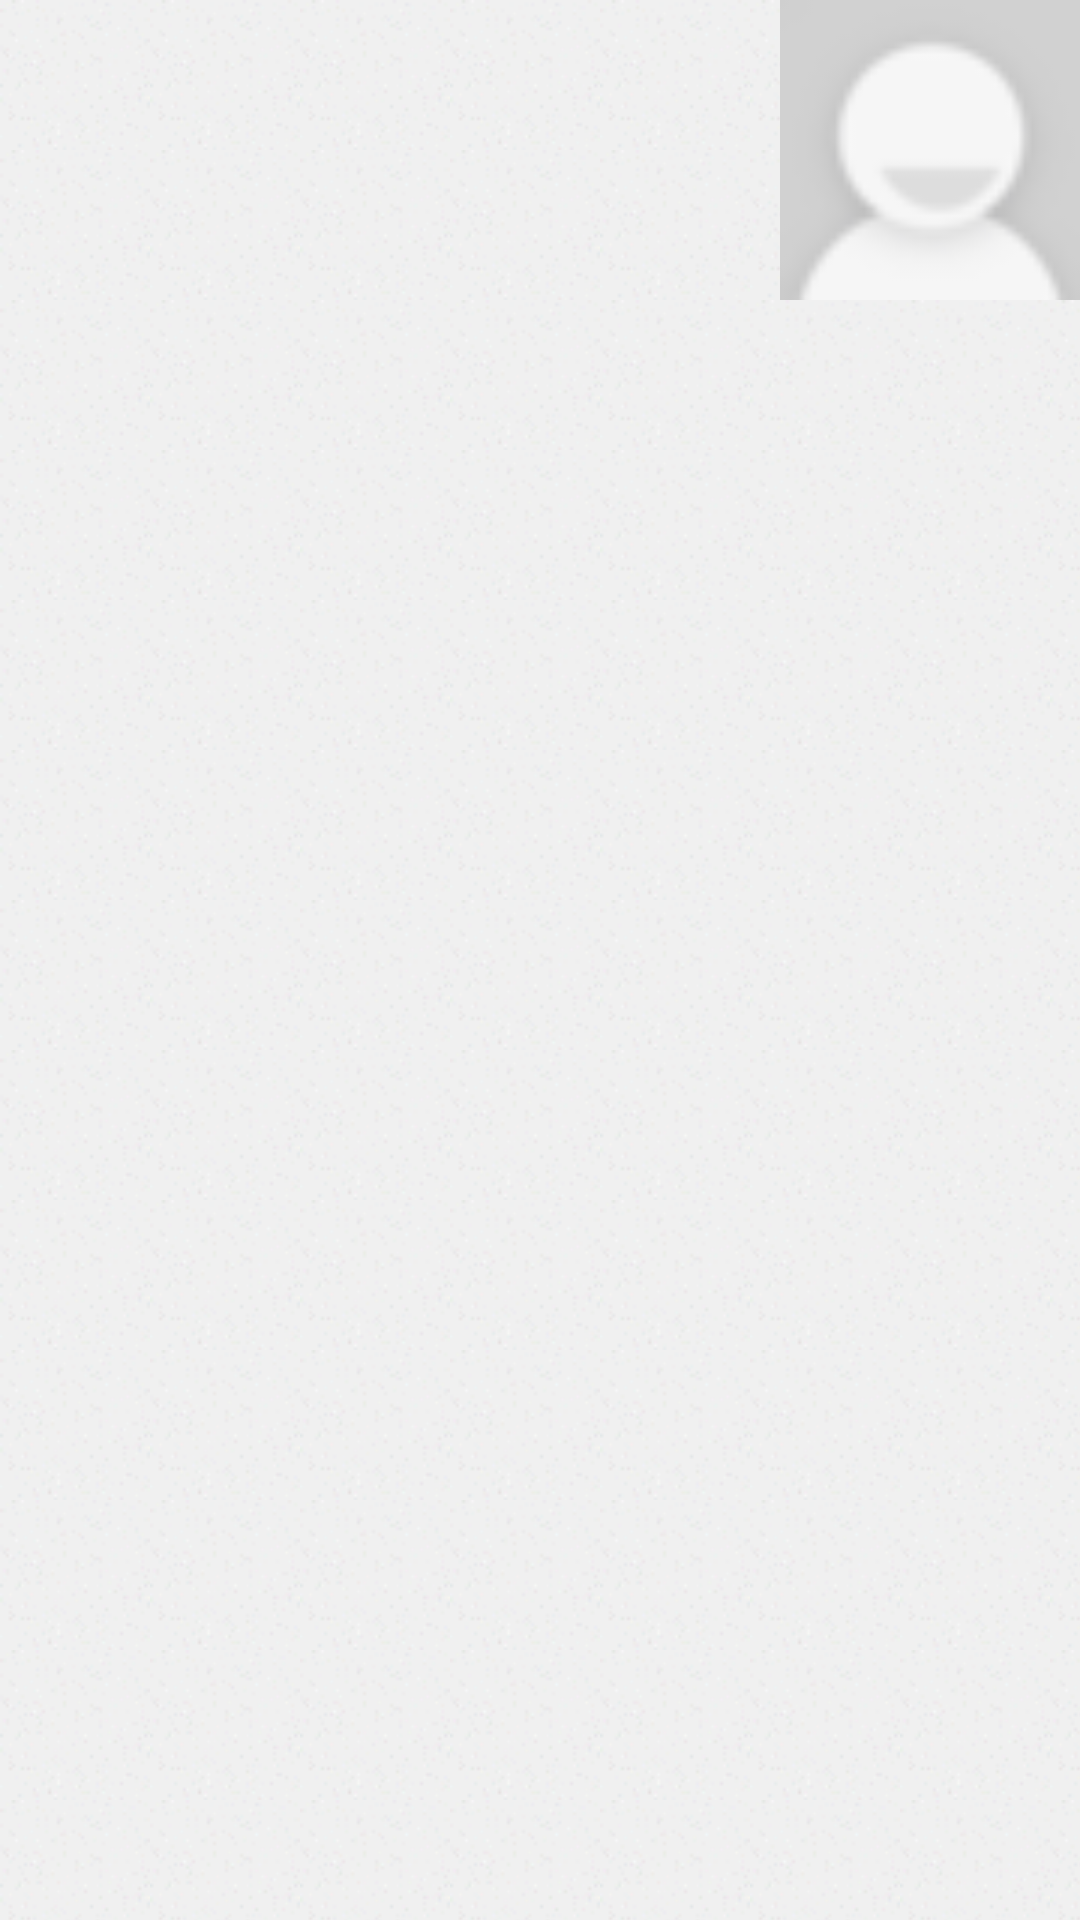

Screen size 1080px×1920px. Icon name, then its center in pixels as (x,y):
contact picture: (930,150)
